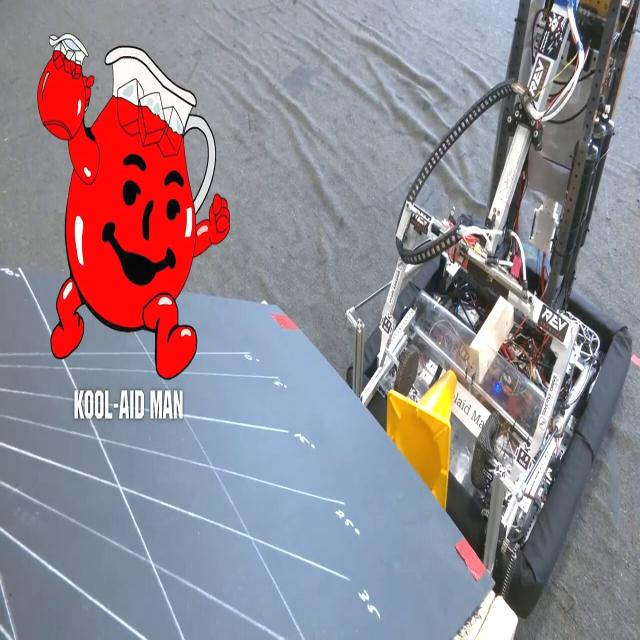frc_cone: (382, 360, 465, 517)
